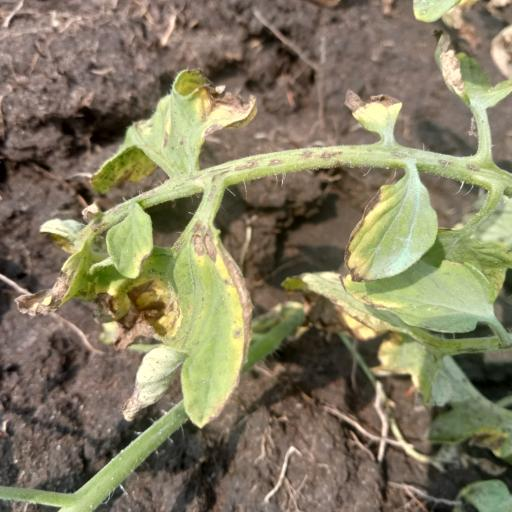Tomato_Brown_Spots: (68, 58, 259, 202), (284, 256, 512, 340), (165, 210, 253, 426), (344, 171, 440, 285)
